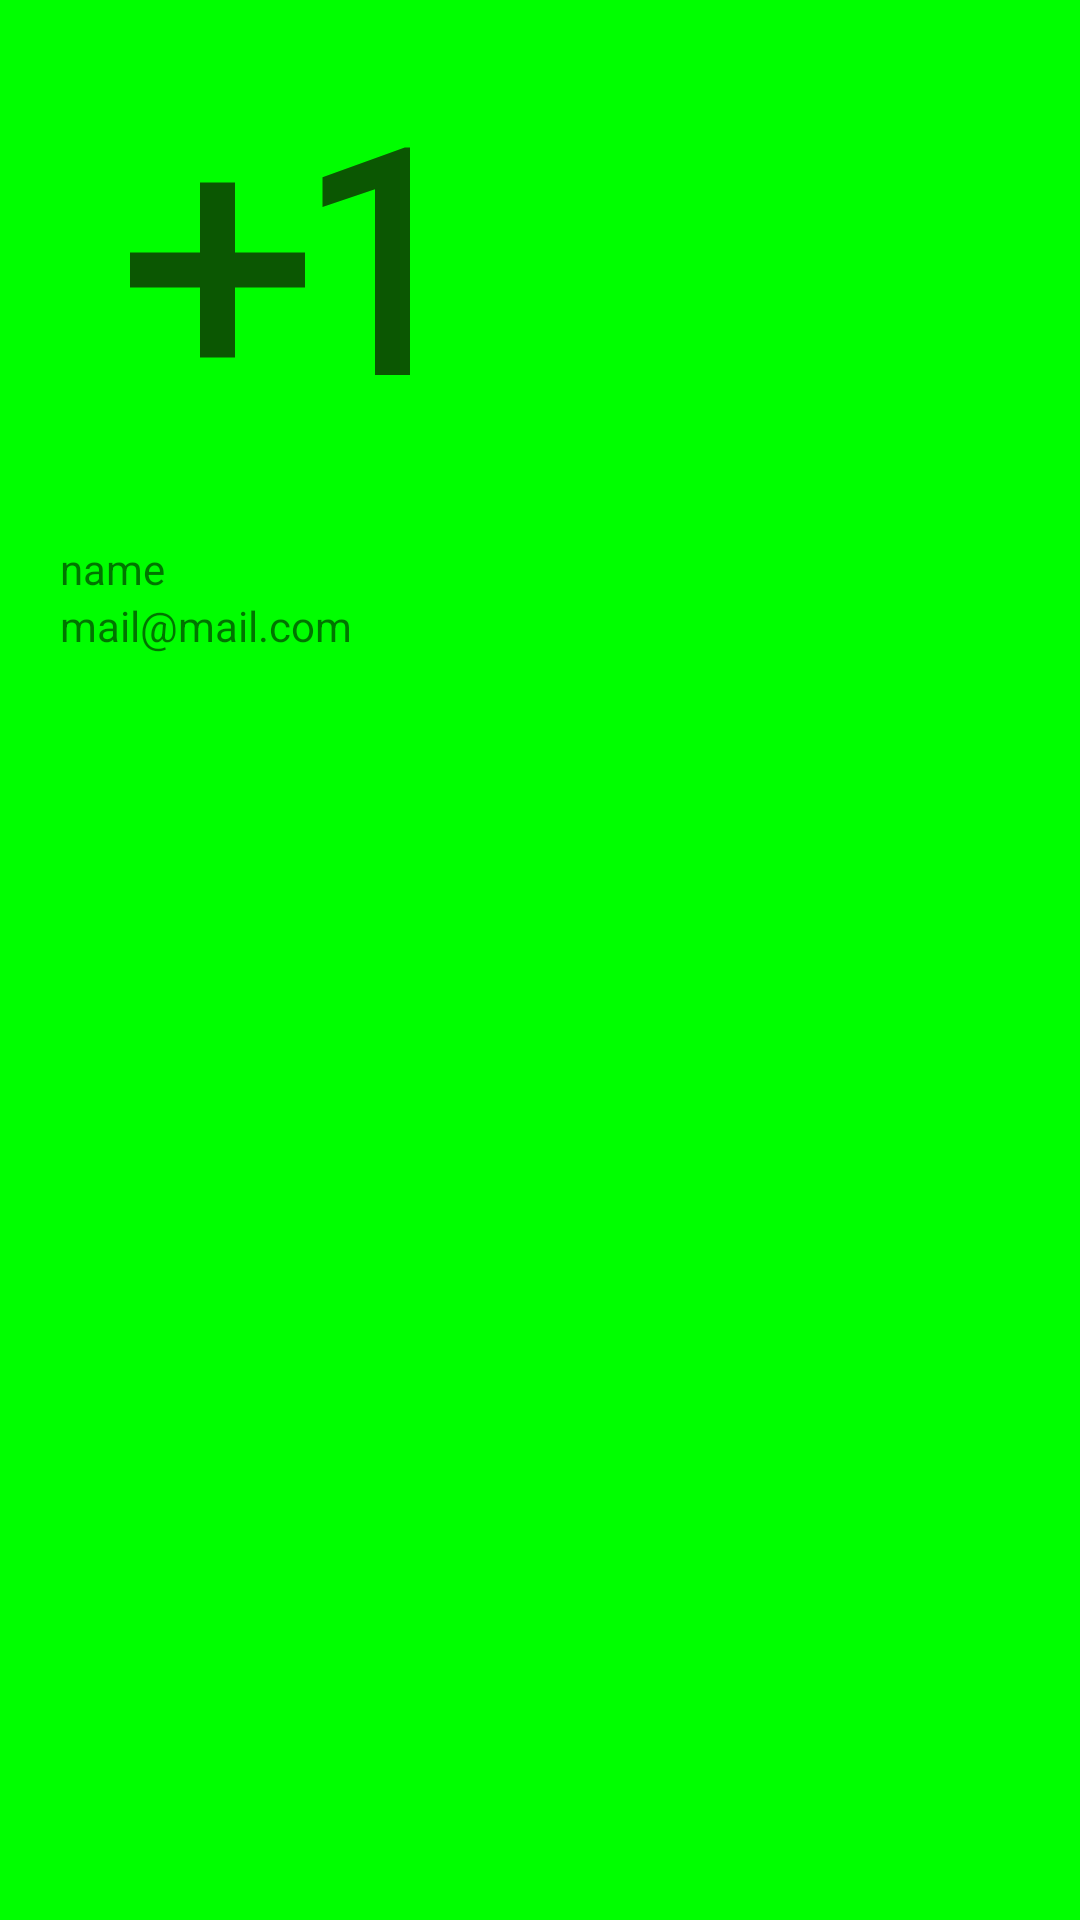

Point at icon controls on the screen. Image size 1080 x 1920, points as [x,y].
exposure plus: [270,261]
